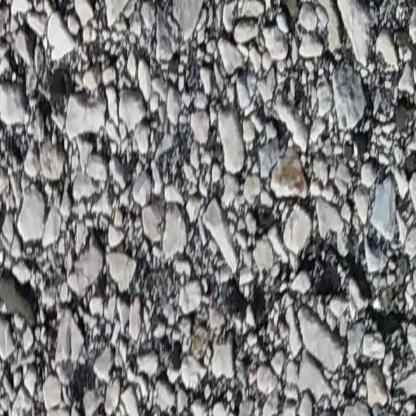Cracks: (316, 237, 416, 347)
